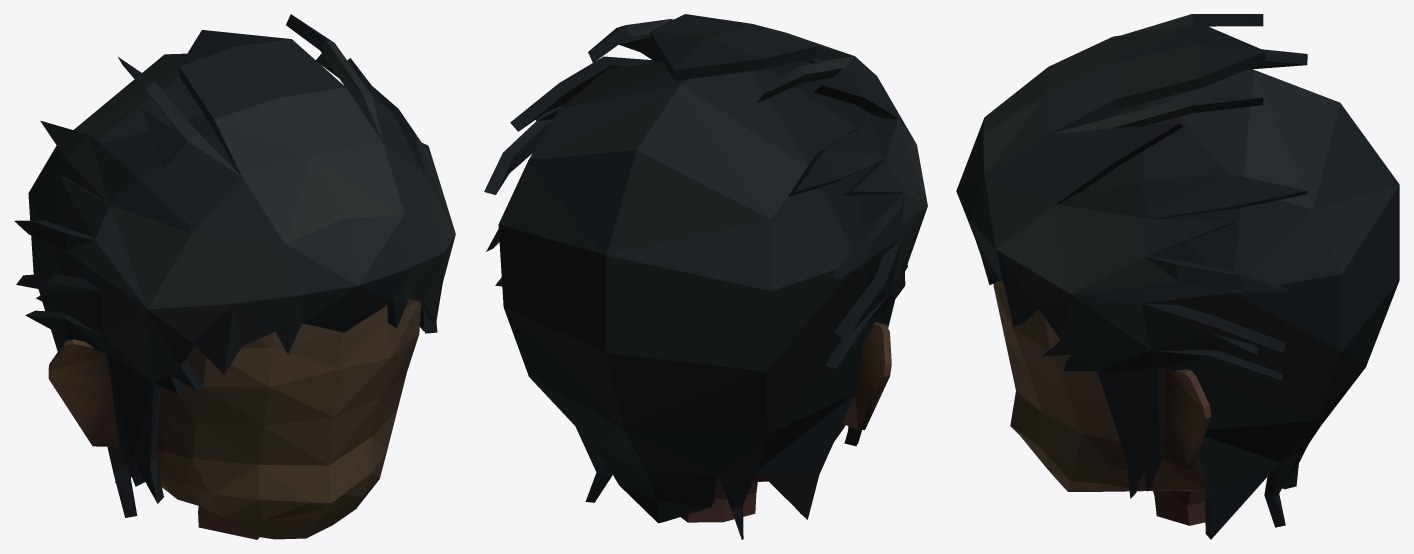
Rendered from helm_darkskin_spike_black.fbx.
The picture shows the model from 3 angles, left to right: view 1: azimuth 30°, elevation 25°; view 2: azimuth 150°, elevation 25°; view 3: azimuth 270°, elevation 25°; orthographic projection.
Parts seen in each view (by area): view 1: helm_darkskin_spike_black; view 2: helm_darkskin_spike_black; view 3: helm_darkskin_spike_black.
Part boxes in pixels (x1,y1,x2,y2): helm_darkskin_spike_black: [14, 14, 455, 539]; helm_darkskin_spike_black: [484, 14, 927, 539]; helm_darkskin_spike_black: [956, 14, 1399, 539].
Bounding box in the file's own units: 1.13 × 1.39 × 1.18.
